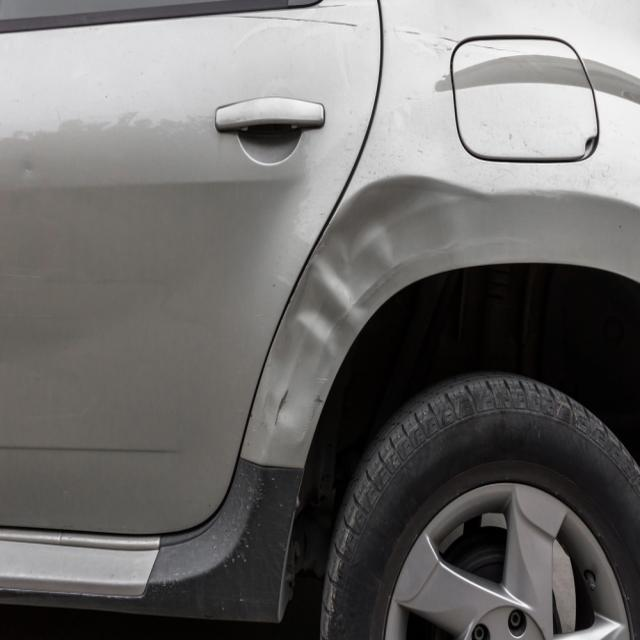dent: (260, 174, 464, 441)
